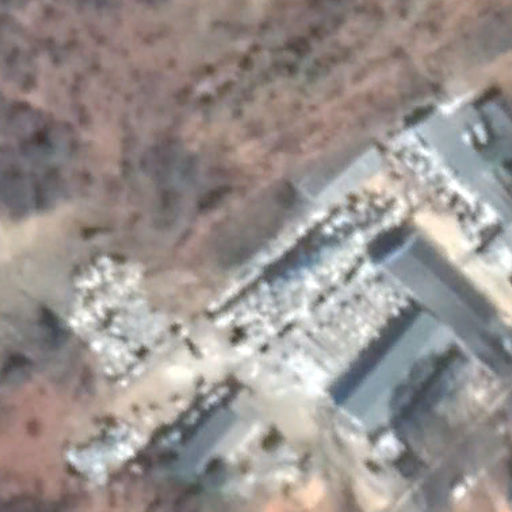msw: (212, 174, 424, 350), (70, 252, 168, 366), (66, 415, 142, 485)
